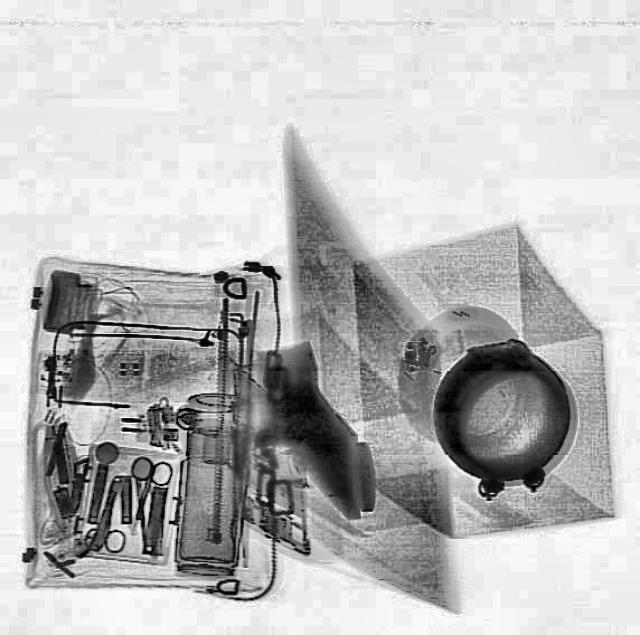Scissors: (109, 454, 175, 538), (82, 480, 132, 554)
